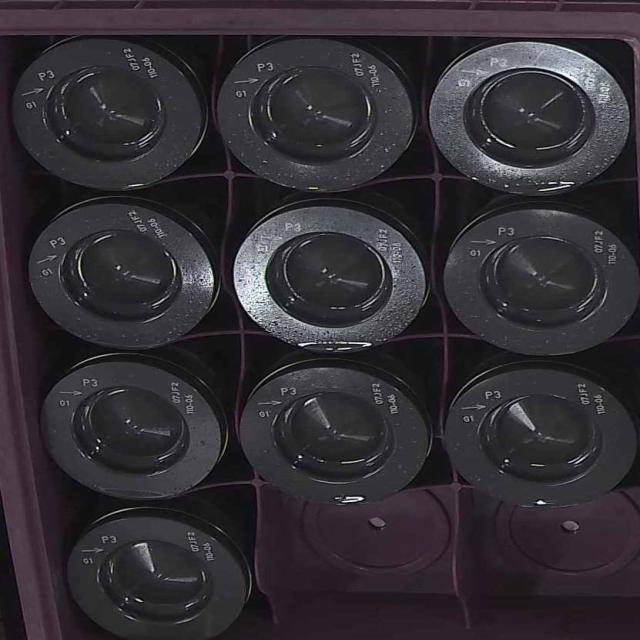P3: (442, 201, 633, 355), (238, 362, 437, 504), (21, 206, 222, 345), (436, 44, 622, 194), (223, 43, 414, 189), (236, 206, 427, 352), (10, 43, 199, 184), (34, 365, 227, 496), (448, 368, 632, 502), (61, 513, 256, 635)
